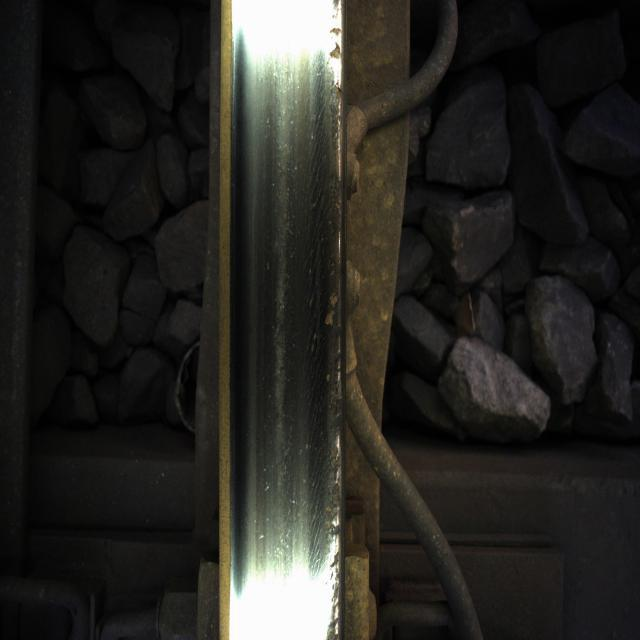crack: (289, 7, 350, 634)
